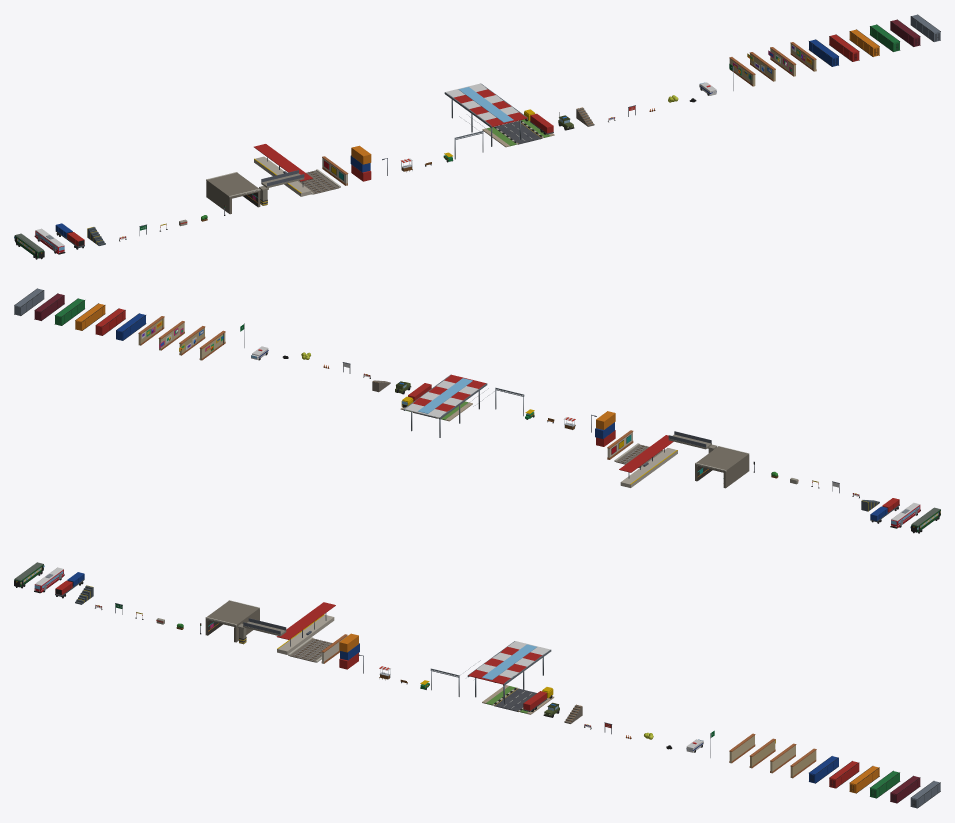
File: props.glb
3 views of the same model, one above another, from view 1: azimuth 30°, elevation 25°; view 2: azimuth 150°, elevation 25°; view 3: azimuth 330°, elevation 25° (orthographic).
Visible parts, largest first — view 1: station_roof, tunnel, station_platform, road_tile, container_stack, ground_tile; view 2: station_roof, tunnel, station_platform, container_stack; view 3: station_roof, station_platform, tunnel, road_tile, ground_tile, container_stack.
Part boxes in pixels (box(x1,y1,x2,y2)): station_roof: box(444, 83, 527, 146); tunnel: box(206, 172, 260, 214); station_platform: box(254, 144, 312, 196); road_tile: box(482, 119, 554, 147); container_stack: box(350, 145, 371, 181); ground_tile: box(298, 169, 340, 194); station_roof: box(403, 374, 487, 437); tunnel: box(695, 446, 749, 488); station_platform: box(619, 435, 677, 487); container_stack: box(595, 411, 615, 446); station_roof: box(467, 641, 551, 704); station_platform: box(276, 602, 335, 654); tunnel: box(205, 600, 259, 642); road_tile: box(482, 685, 554, 714); ground_tile: box(288, 637, 332, 662); container_stack: box(339, 633, 359, 669).
Size of the model in its own units: 266 by 7.4 by 25.2.
